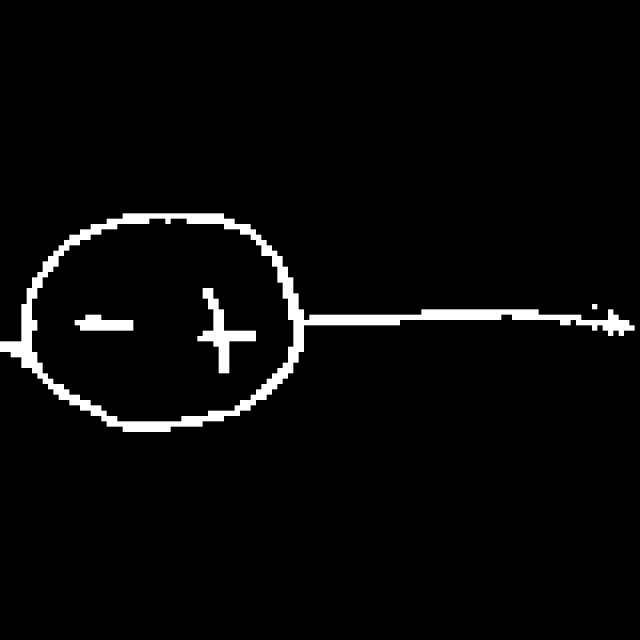voltage_source: (18, 195, 314, 442)
